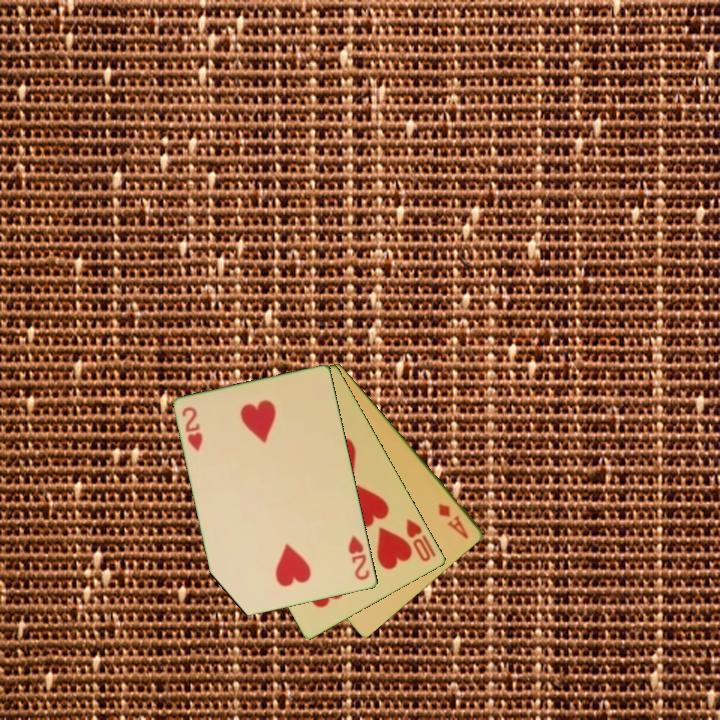10h: (403, 515, 439, 565)
2h: (345, 531, 373, 583), (178, 403, 206, 454)
Ad: (435, 500, 472, 542)
